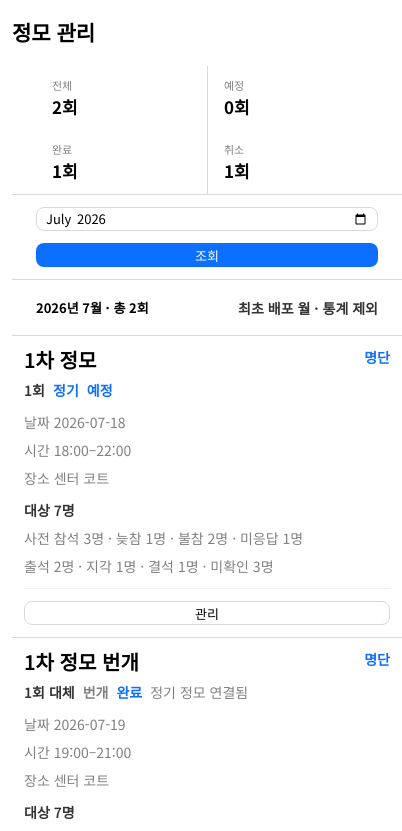
it: MeetingsPage › uses the KST current month, shares ordered rows across table and mobile, and shows summary and bootstrap state
This screenshot has width=402, height=831.
Expected: the heading "정모 관리" is shown, [12,17,95,47]
Expected: the field named "조회 월" holds "2026-07", [36,208,378,232]
Click the button with aria-label "1차 정모 관리 열기".
click(207, 613)  # box [24,601,390,625]
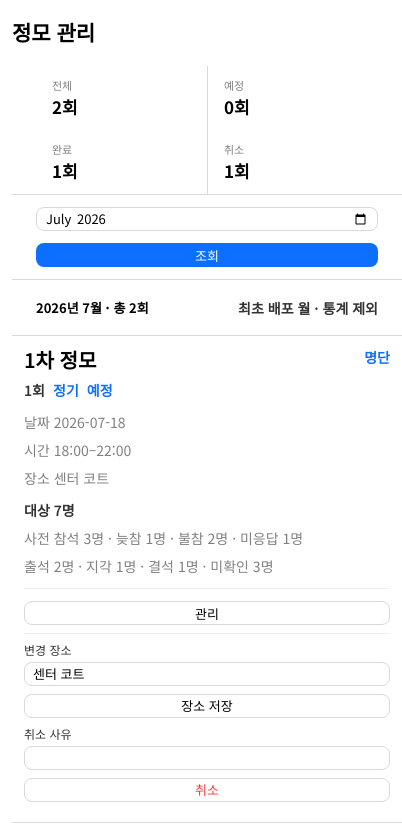
Expected: the element named "1차 정모 회차 관리" is shown, [24,633,390,810]
